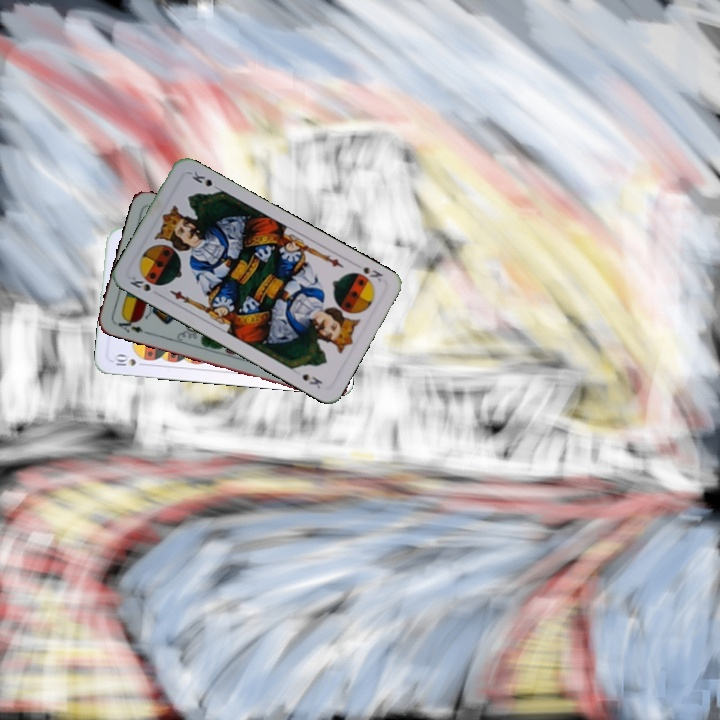EA: (111, 313, 151, 337)
S10: (109, 351, 149, 369)
SK: (126, 270, 163, 299), (359, 262, 386, 284)
